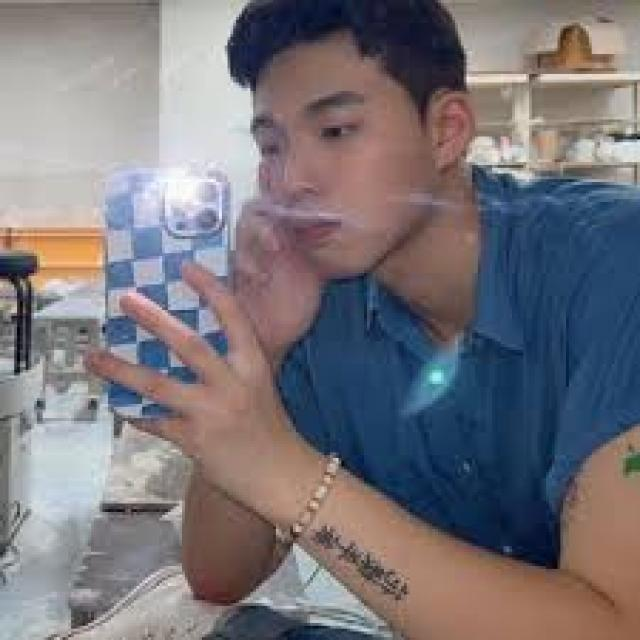Phone: (98, 166, 242, 422)
